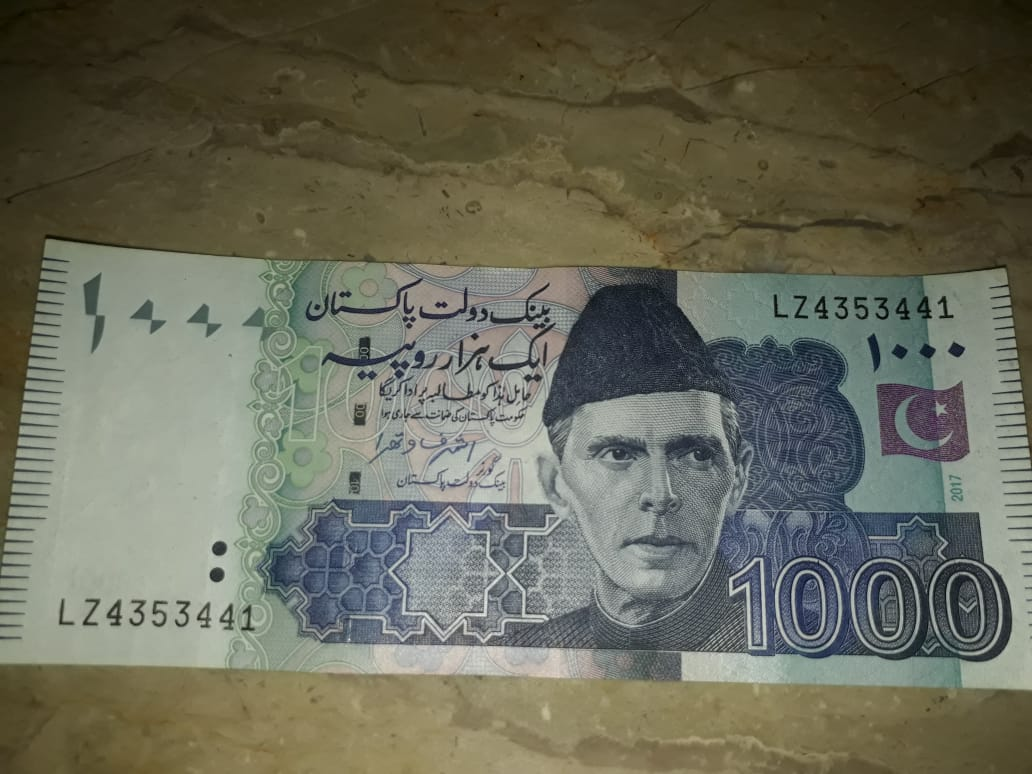1000 rupee: (22, 214, 1025, 721)
